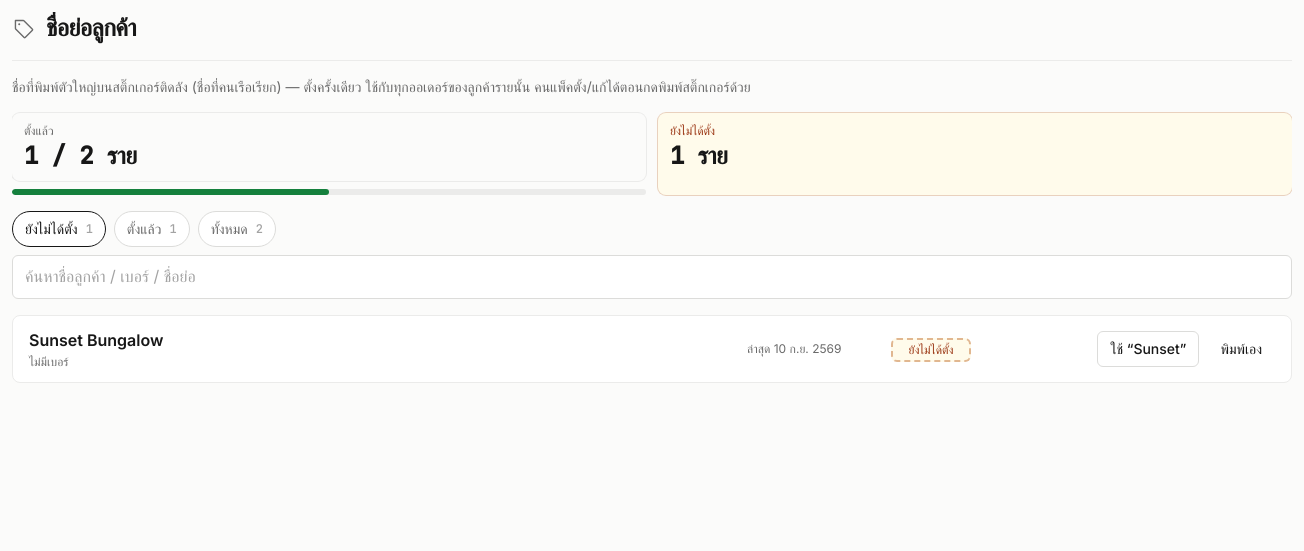
Test case: a suggestion button fills the box
What coordinates should you click on to do the following:
click the button "ตั้งแล้ว 1"
I would click on:
 (152, 229)
Its box is left=114, top=211, right=190, bottom=247.
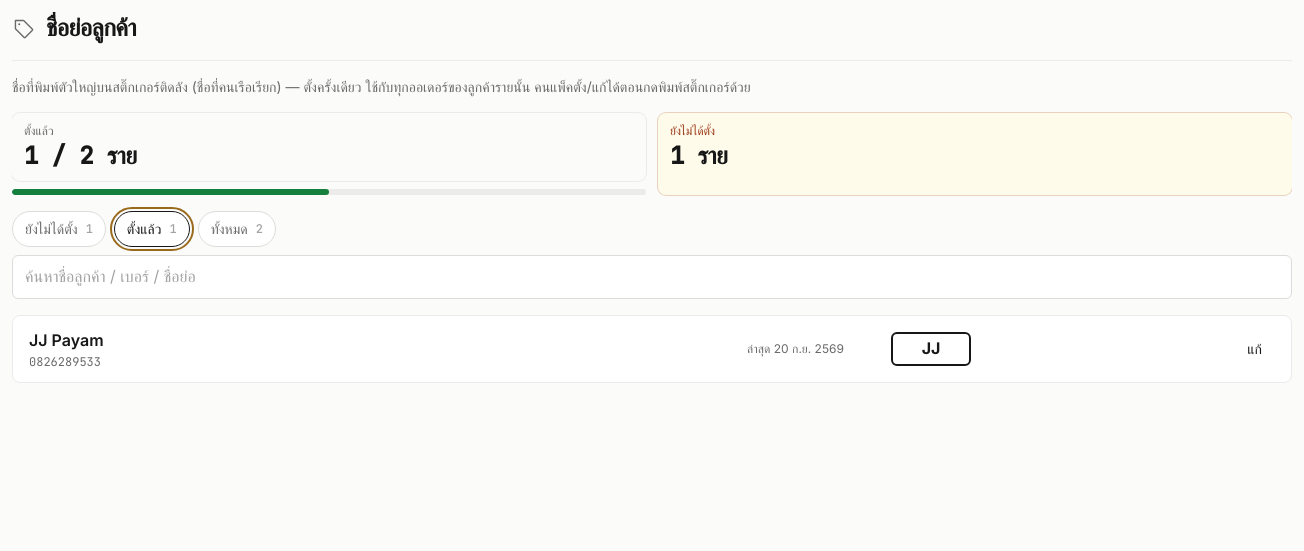
What coordinates should you click on to do the following:
click the button "แก้"
I would click on:
 (1255, 349)
Its box is left=1234, top=331, right=1275, bottom=367.
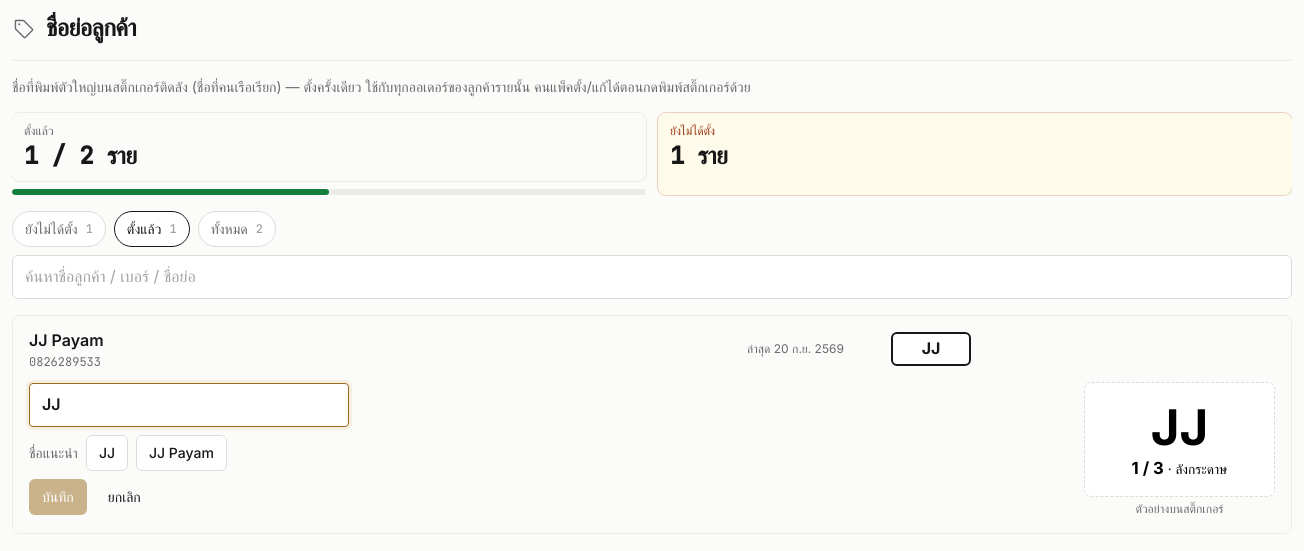
What coordinates should you click on to do the following:
click the button "JJ Payam"
I would click on:
 (181, 453)
Its box is left=136, top=435, right=227, bottom=471.
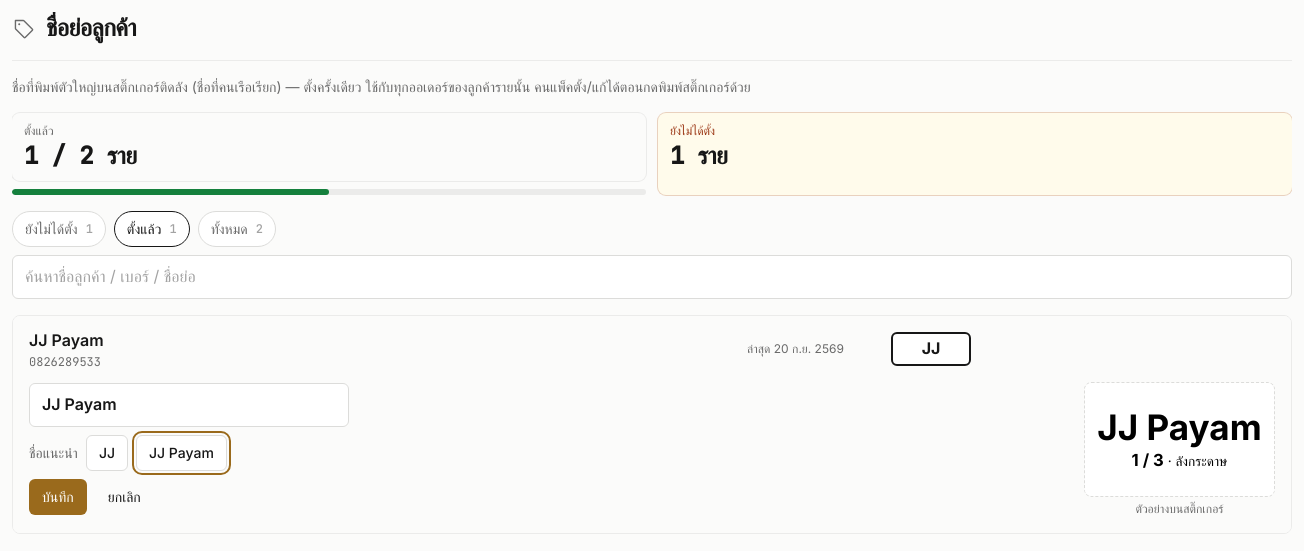
Check: the field named "ชื่อย่อของ JJ Payam" holds "JJ Payam", box left=29, top=383, right=349, bottom=427
